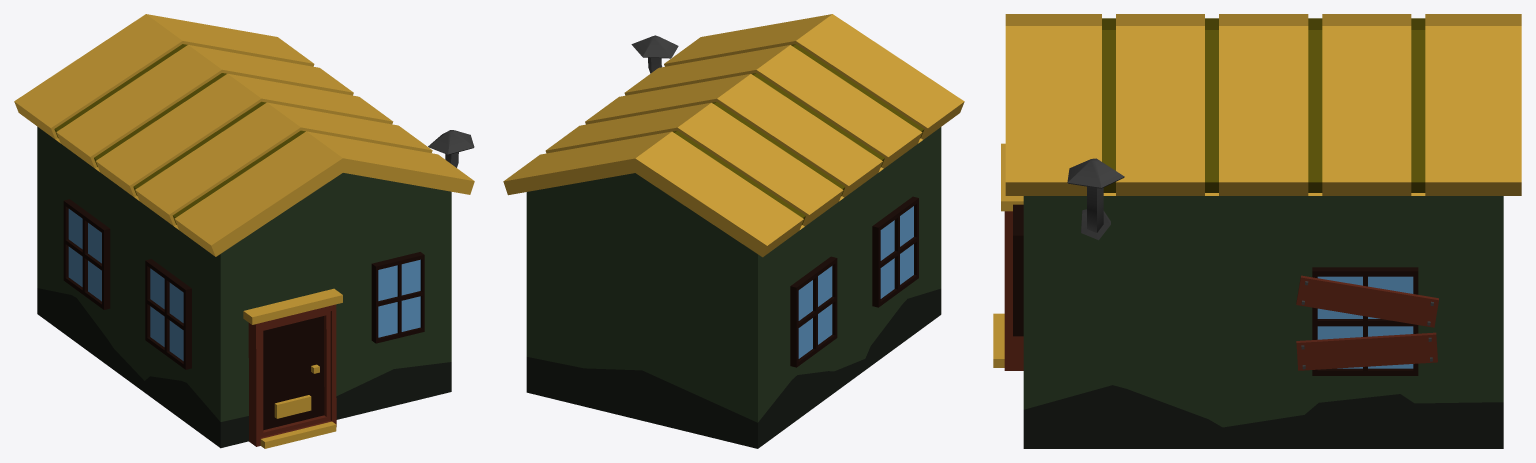
Rendered from House1.fbx.
3 views of the same model, side by side, from view 1: azimuth 30°, elevation 25°; view 2: azimuth 150°, elevation 25°; view 3: azimuth 270°, elevation 25° (orthographic). The views are drawn at different scales.
Parts seen in each view (by area): view 1: Mesh; view 2: Mesh; view 3: Mesh.
Part boxes in pixels (<box>): Mesh: <box>14,14,474,448</box>; Mesh: <box>503,14,964,448</box>; Mesh: <box>993,14,1521,448</box>.
Size of the model in its own units: 602 by 519 by 710.
